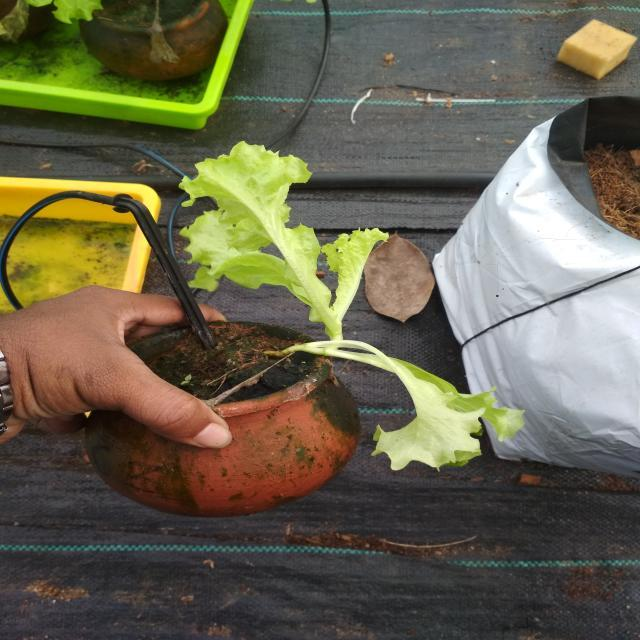Lettuce-Not-Ready-to-Harvest: (181, 142, 522, 469)
